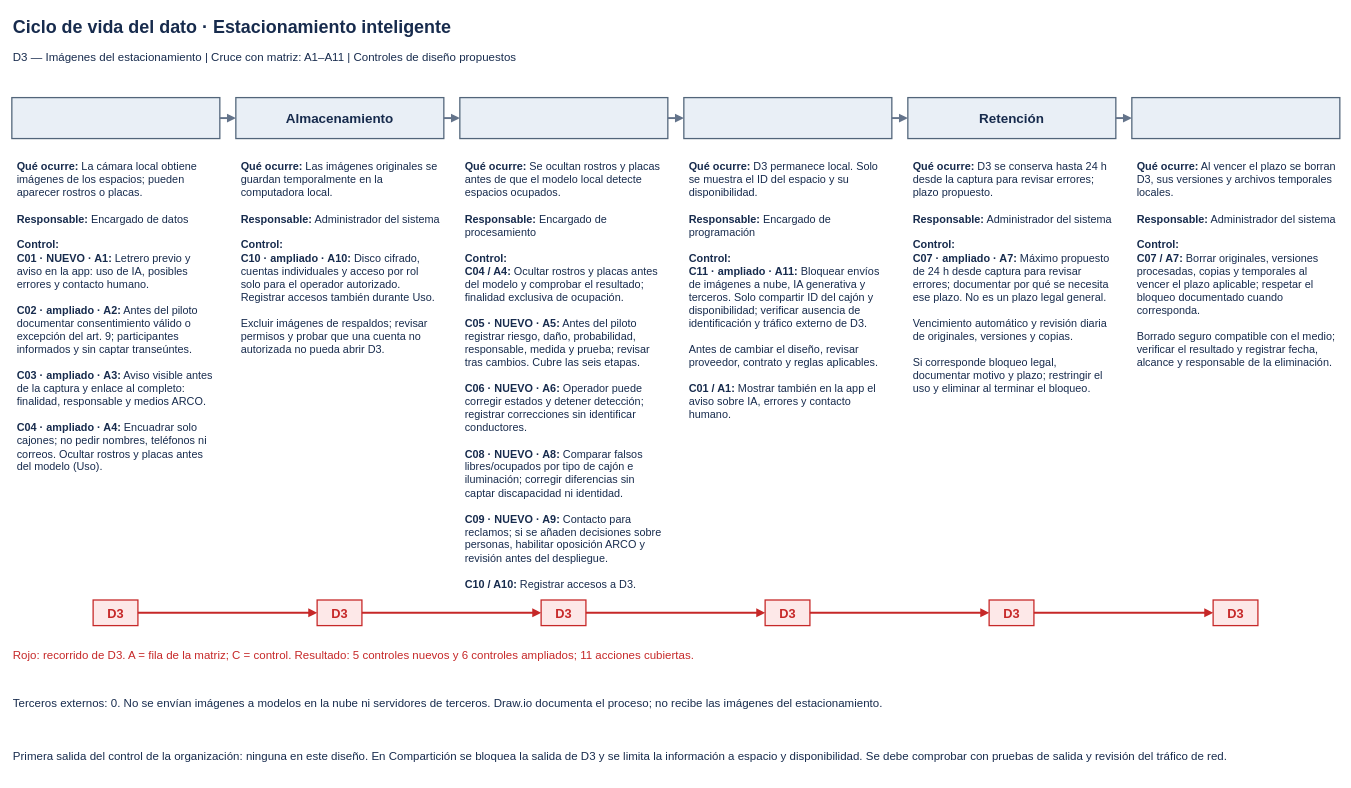
The diagram is 1351 pixels wide and 788 high, and some of its shapes have lost their labels. The shapes that lost their labels are listed below. From the top down, each one's centre as x and y in pixels, then its label:
At point (115, 118): "Captura".
At point (563, 118): "Uso".
At point (787, 118): "Compartición".
At point (1235, 118): "Eliminación".
